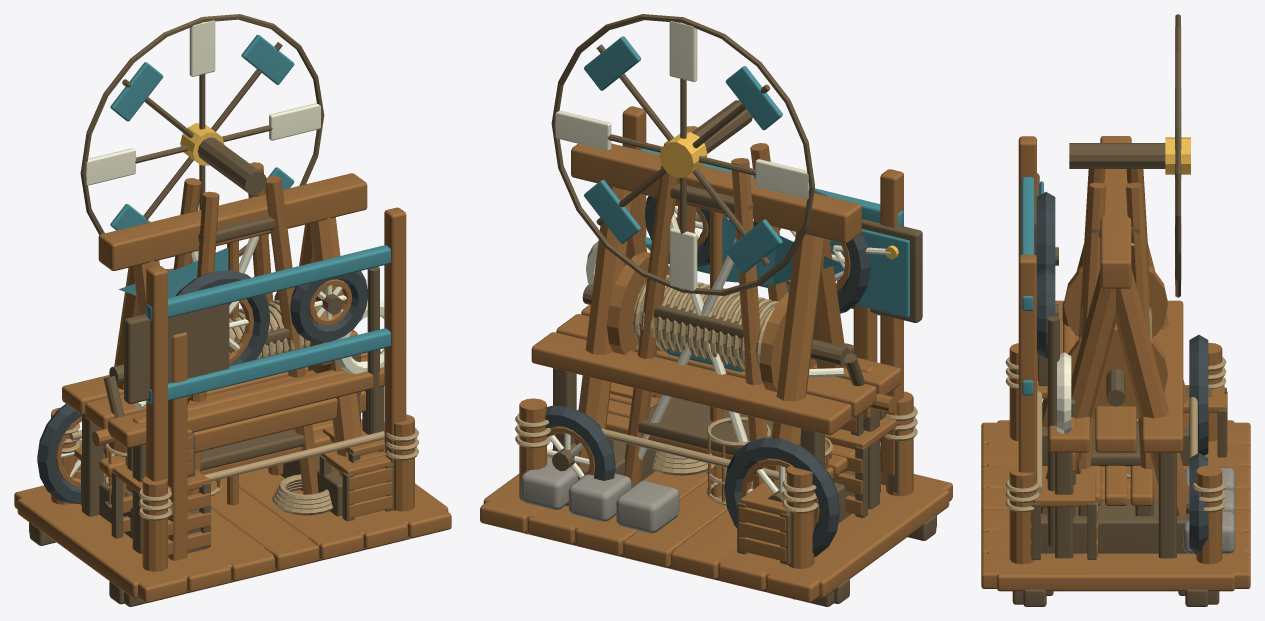
The model's file is CarSceneryProps.fbx.
3 views of the same model, side by side, from view 1: azimuth 30°, elevation 25°; view 2: azimuth 150°, elevation 25°; view 3: azimuth 270°, elevation 25° (orthographic). The views are drawn at different scales.
Visible parts, largest first — view 1: Overhead beam, Workshop top.002, Trail map frame, Rack upright, Rack slat.001, Rack slat, Rack upright.001, Trail map post, Tower leg.001, Rotor rim, Back slat, Deck plank.020 (+56 smaller); view 2: Workshop top, Overhead beam, Timber frame.002, Rotor rim, Deck plank.020, Rubber tyre.003, Tower leg, Timber frame, Deck plank.034, Tower leg.002, Trail map enamel, Rack upright.001 (+61 smaller); view 3: Deck plank.014, Timber frame, A-frame foot, Rack upright, Workshop top, Timber frame.001, Overhead beam, Deck plank.028, Rotor axle, Tower leg, Tower leg.001, Drum rim (+48 smaller).
Boxes of the visible parts, x1,y1,x2,y2 form: Overhead beam: (98, 173, 367, 270); Workshop top.002: (108, 356, 384, 448); Trail map frame: (124, 303, 229, 403); Rack upright: (384, 207, 406, 463); Rack slat.001: (146, 245, 390, 321); Rack slat: (147, 328, 390, 404); Rack upright.001: (146, 265, 167, 481); Trail map post: (168, 332, 187, 560); Tower leg.001: (265, 176, 318, 494); Rotor rim: (80, 14, 324, 271); Back slat: (193, 391, 365, 452); Deck plank.020: (17, 495, 138, 598); Workshop top: (531, 332, 851, 435); Overhead beam: (571, 143, 861, 243); Timber frame.002: (768, 232, 824, 488); Rotor rim: (551, 14, 814, 295); Deck plank.020: (818, 482, 949, 597); Rubber tyre.003: (724, 437, 839, 556); Tower leg: (624, 141, 678, 487); Timber frame: (574, 186, 632, 468); Deck plank.034: (766, 474, 952, 602); Tower leg.002: (731, 158, 767, 489); Trail map enamel: (830, 229, 909, 317); Rack upright.001: (880, 169, 903, 475); Deck plank.014: (996, 555, 1235, 591); Timber frame: (1116, 269, 1189, 515); A-frame foot: (1041, 499, 1189, 553); Rack upright: (1018, 254, 1036, 493); Workshop top: (1142, 300, 1183, 452); Timber frame.001: (1041, 269, 1115, 514); Overhead beam: (1100, 136, 1131, 288); Deck plank.028: (981, 554, 1250, 588); Rotor axle: (1069, 143, 1165, 168); Tower leg: (1125, 182, 1158, 498); Tower leg.001: (1076, 182, 1106, 473); Drum rim: (1068, 324, 1167, 419).
Bounding box in the file's own units: 72 × 107 × 52.
